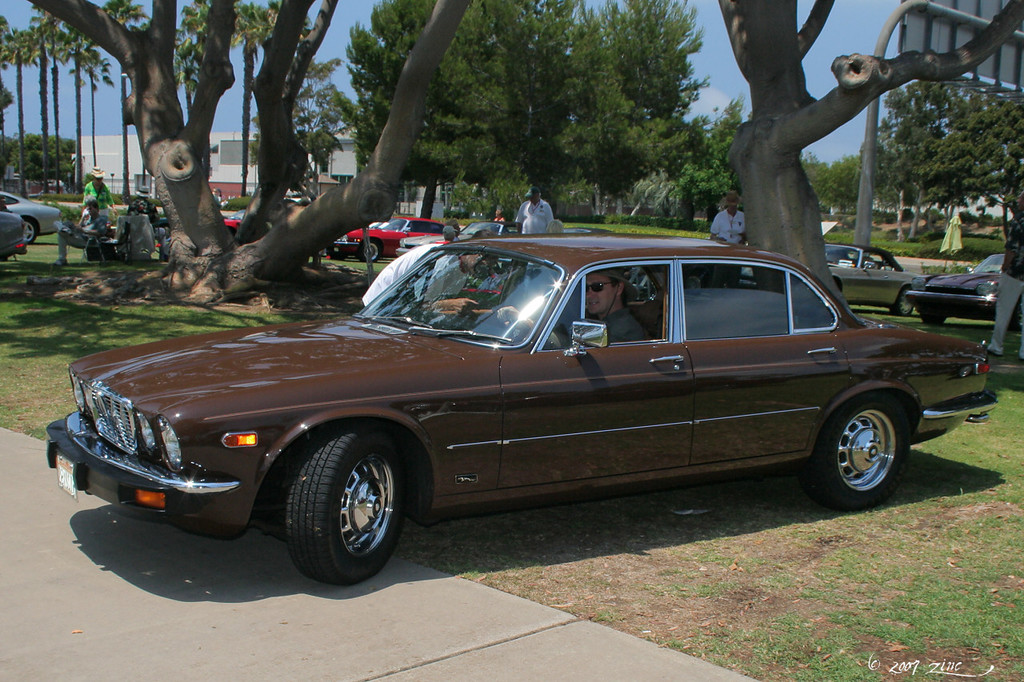Car: (44, 233, 993, 582)
